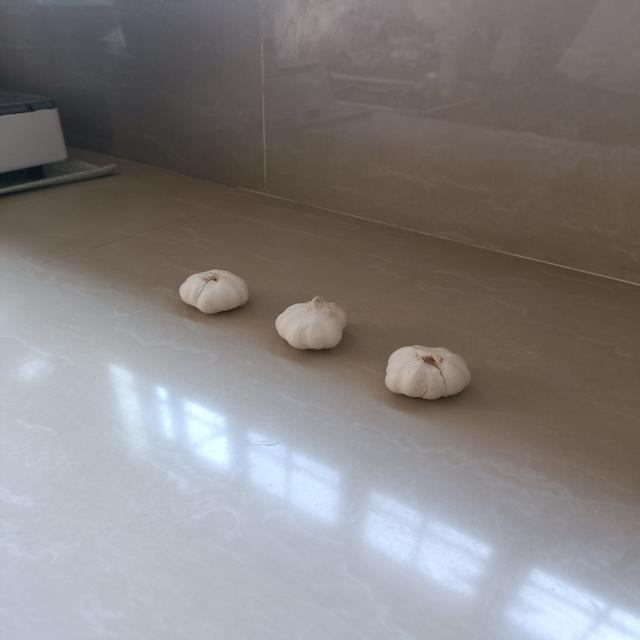garlic: (378, 342, 476, 400), (270, 290, 357, 355), (174, 265, 252, 314)
